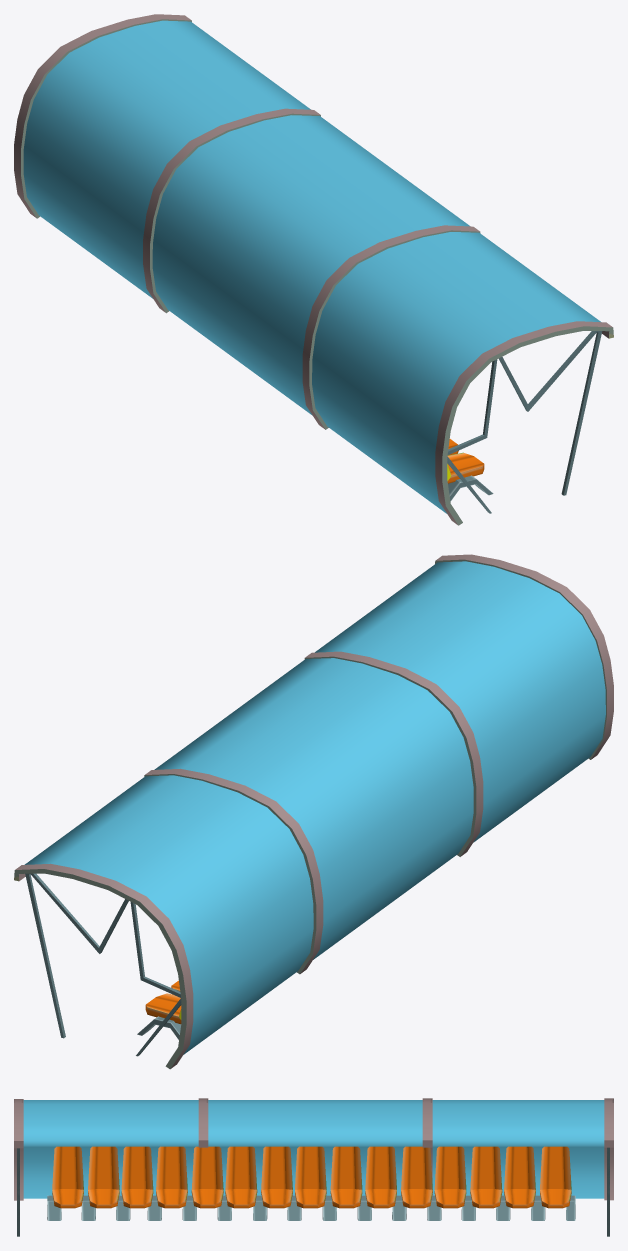
The model's file is Bench.FBX.
The picture shows the model from 3 angles, top to bottom: view 1: azimuth 30°, elevation 25°; view 2: azimuth 150°, elevation 25°; view 3: azimuth 270°, elevation 25°; orthographic projection. The views are drawn at different scales.
Visible parts, largest first — view 1: Bench; view 2: Bench; view 3: Bench.
Boxes of the visible parts, x1,y1,x2,y2 form: Bench: [14, 14, 613, 525]; Bench: [14, 554, 613, 1069]; Bench: [14, 1098, 613, 1236].
Bounding box in the file's own units: 461 × 434 × 1970.
Materials: 2 (2 with a texture image).
